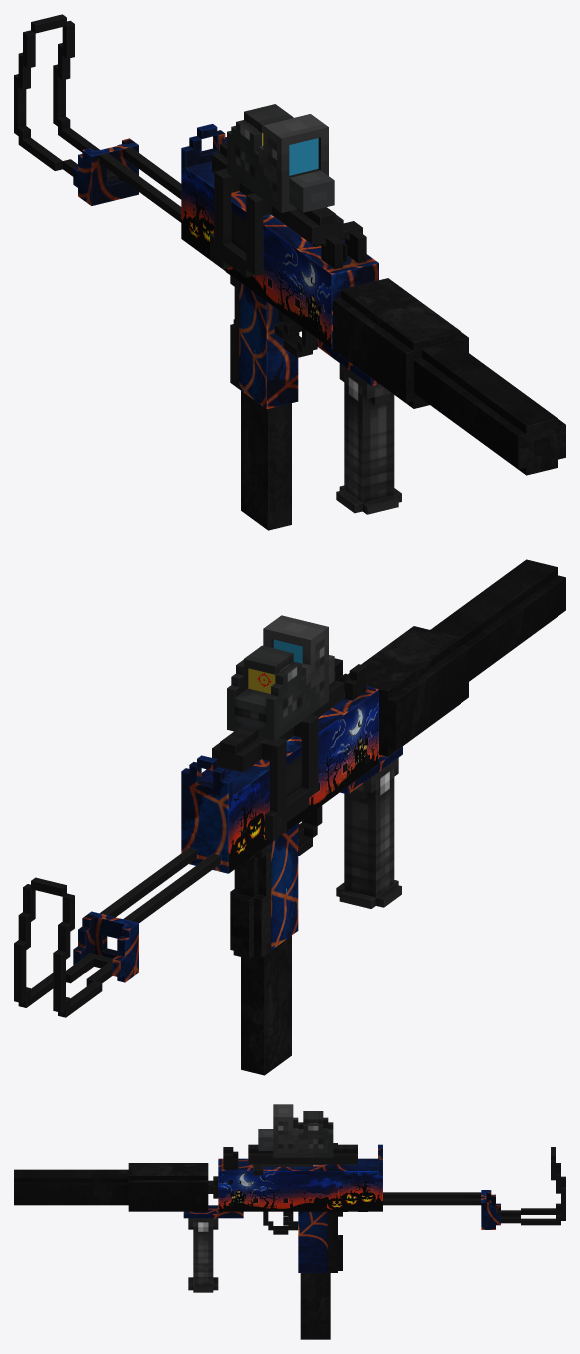
Rendered from RD_MAC10_SCARY.glb.
3 renders of one model, top to bottom at view 1: azimuth 30°, elevation 25°; view 2: azimuth 150°, elevation 25°; view 3: azimuth 270°, elevation 25°, orthographic. The views are drawn at different scales.
Visible parts, largest first — view 1: MAC10, MAC10_SILENCER, GRIP1, MAC10_PLANK (×2), MAC10_CLIP, MAC10_BUTT_STOCK_P2, MAC10_BUTT_STOCK_P1, SCOPE_EOTECH, SCOPE_HOLOSUN; view 2: MAC10, MAC10_SILENCER, MAC10_PLANK (×2), GRIP1, SCOPE_EOTECH, MAC10_CLIP, MAC10_BUTT_STOCK_P1, MAC10_BUTT_STOCK_P2, SCOPE_HOLOSUN; view 3: MAC10, MAC10_SILENCER, MAC10_CLIP, MAC10_BUTT_STOCK_P1, GRIP1, SCOPE_EOTECH, SCOPE_HOLOSUN, MAC10_BUTT_STOCK_P2, MAC10_PLANK, MAC10_BODY_GRIP.
Part boxes in pixels (x1=…): MAC10: x1=181, y1=124, x2=378, y2=409; MAC10_SILENCER: x1=333, y1=278, x2=565, y2=475; GRIP1: x1=336, y1=363, x2=401, y2=514; MAC10_PLANK (×2): x1=210, y1=142, x2=343, y2=277; MAC10_CLIP: x1=241, y1=391, x2=291, y2=530; MAC10_BUTT_STOCK_P2: x1=14, y1=14, x2=118, y2=181; MAC10_BUTT_STOCK_P1: x1=73, y1=138, x2=181, y2=222; SCOPE_EOTECH: x1=227, y1=104, x2=334, y2=212; SCOPE_HOLOSUN: x1=258, y1=114, x2=328, y2=212; MAC10: x1=181, y1=658, x2=378, y2=958; MAC10_SILENCER: x1=347, y1=559, x2=565, y2=756; MAC10_PLANK (×2): x1=212, y1=672, x2=343, y2=840; GRIP1: x1=336, y1=758, x2=401, y2=908; SCOPE_EOTECH: x1=227, y1=645, x2=334, y2=740; MAC10_CLIP: x1=241, y1=935, x2=291, y2=1075; MAC10_BUTT_STOCK_P1: x1=73, y1=847, x2=220, y2=982; MAC10_BUTT_STOCK_P2: x1=14, y1=877, x2=112, y2=1017; SCOPE_HOLOSUN: x1=263, y1=615, x2=328, y2=707; MAC10: x1=208, y1=1144, x2=382, y2=1272; MAC10_SILENCER: x1=14, y1=1163, x2=208, y2=1211; MAC10_CLIP: x1=300, y1=1273, x2=330, y2=1339; MAC10_BUTT_STOCK_P1: x1=383, y1=1190, x2=500, y2=1229; GRIP1: x1=188, y1=1218, x2=218, y2=1292; SCOPE_EOTECH: x1=258, y1=1111, x2=333, y2=1157; SCOPE_HOLOSUN: x1=273, y1=1104, x2=313, y2=1157; MAC10_BUTT_STOCK_P2: x1=496, y1=1147, x2=565, y2=1225; MAC10_PLANK: x1=248, y1=1143, x2=357, y2=1164; MAC10_BODY_GRIP: x1=183, y1=1205, x2=243, y2=1218.
Bounding box in the file's own units: 0.0886 × 0.492 × 1.09.
Materials: 6 (6 with a texture image).
